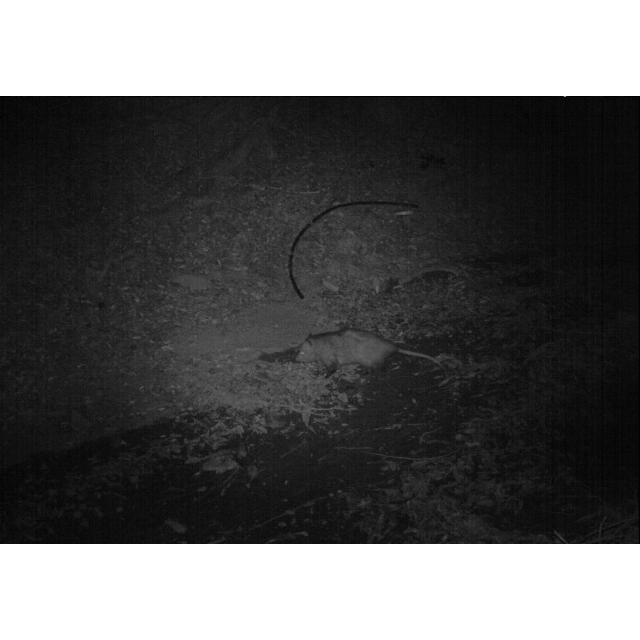animals: (292, 326, 442, 390)
